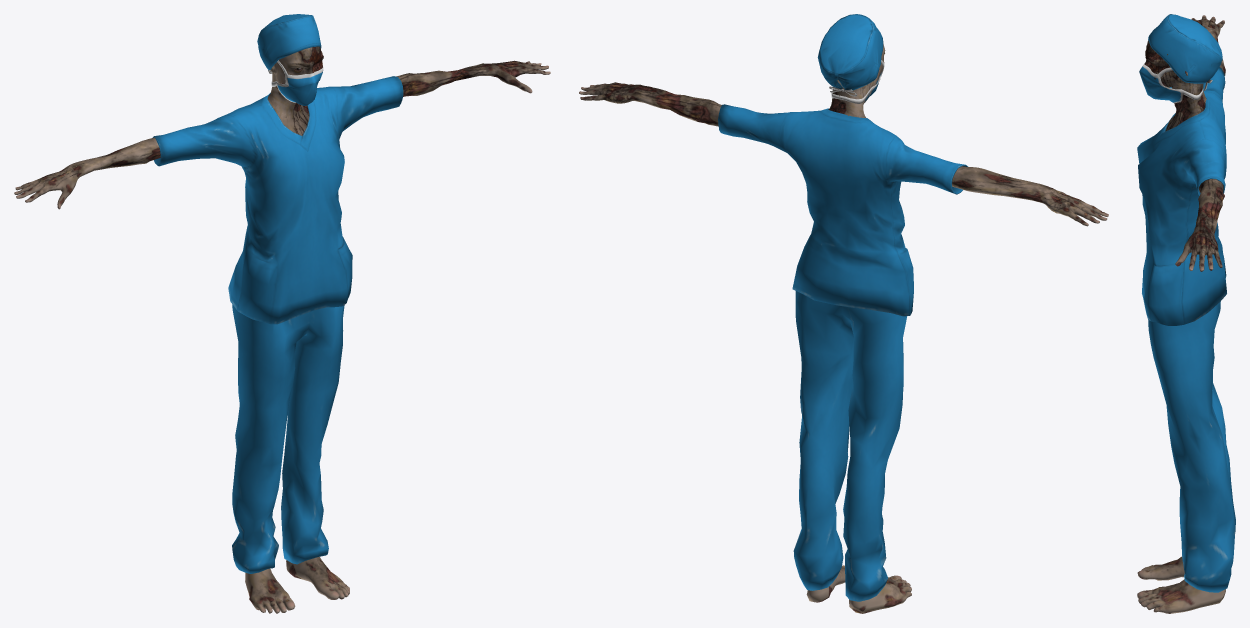
Rendered from zombie.obj.
3 views of the same model, side by side, from view 1: azimuth 30°, elevation 25°; view 2: azimuth 150°, elevation 25°; view 3: azimuth 270°, elevation 25° (orthographic).
Parts seen in each view (by area): view 1: ZombieWoman_Scrubs; view 2: ZombieWoman_Scrubs; view 3: ZombieWoman_Scrubs.
Boxes of the visible parts, bbox=[...] form: ZombieWoman_Scrubs: bbox=[14, 14, 550, 613]; ZombieWoman_Scrubs: bbox=[579, 14, 1108, 613]; ZombieWoman_Scrubs: bbox=[1137, 14, 1235, 613].
Bounding box in the file's own units: 1.67 × 1.75 × 0.2714.
Materials: 1 (1 with a texture image).
